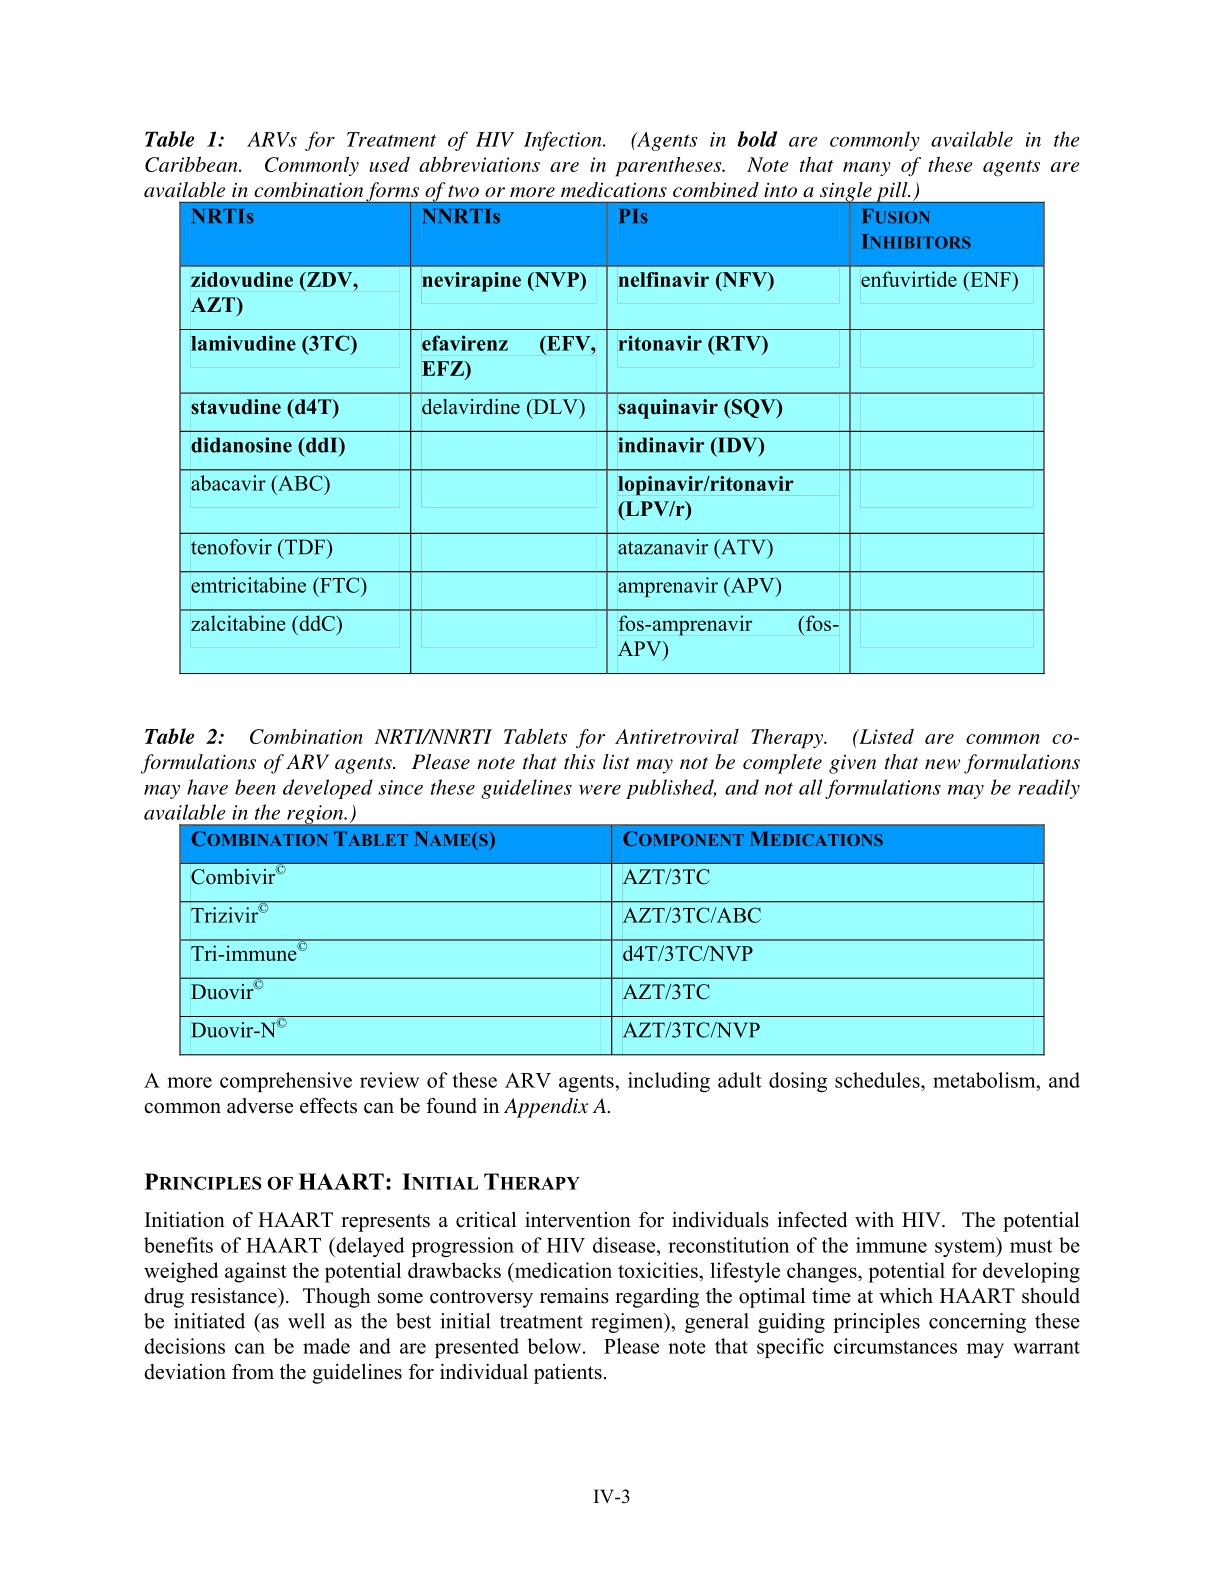full_lined: (177, 201, 1047, 675), (179, 824, 1045, 1056)
